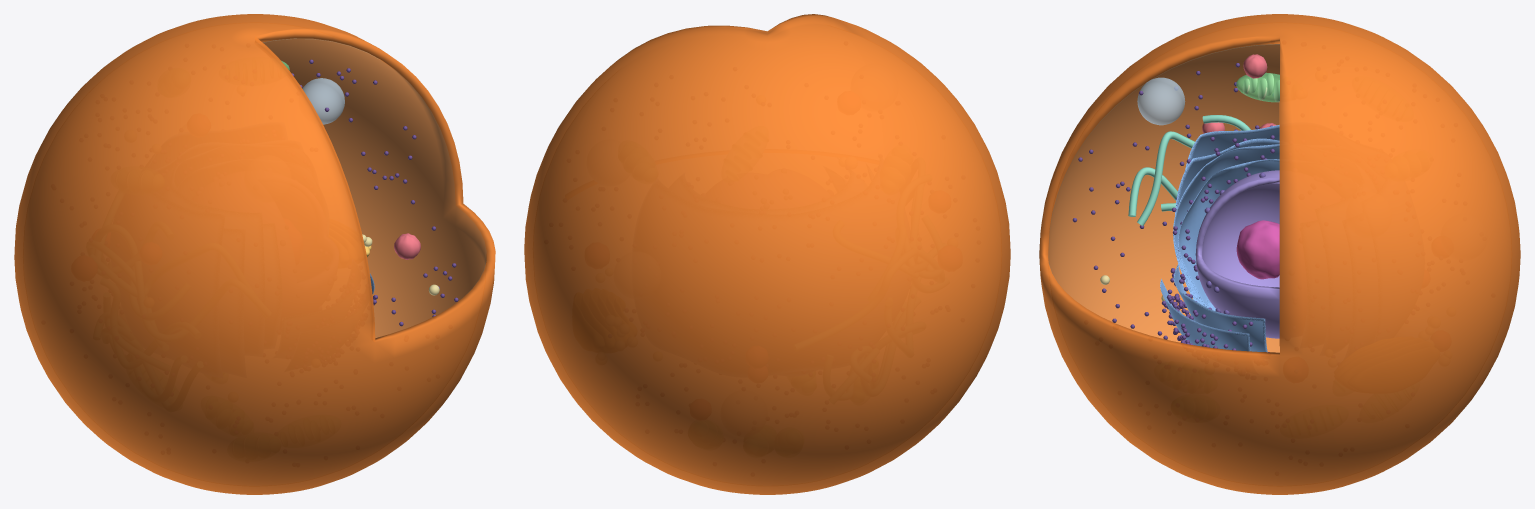
Rendered from animal_cell.glb.
3 renders of one model, left to right at view 1: azimuth 30°, elevation 25°; view 2: azimuth 150°, elevation 25°; view 3: azimuth 270°, elevation 25°, orthographic.
Visible parts, largest first — view 1: Cell_Membrane, Cytoplasm, Vacuole_03, Ribosomes, Lysosome_02; view 2: Cell_Membrane; view 3: Cell_Membrane, Cytoplasm, Rough_ER, Nucleus, Ribosomes, Nucleolus, Smooth_ER, Vacuole_02, Mitochondrion_01.
Boxes of the visible parts, x1=… form: Cell_Membrane: x1=14, y1=14, x2=495, y2=494; Cytoplasm: x1=263, y1=38, x2=485, y2=337; Vacuole_03: x1=302, y1=78, x2=344, y2=124; Ribosomes: x1=291, y1=59, x2=458, y2=326; Lysosome_02: x1=394, y1=233, x2=420, y2=259; Cell_Membrane: x1=524, y1=14, x2=1010, y2=494; Cell_Membrane: x1=1039, y1=14, x2=1520, y2=494; Cytoplasm: x1=1048, y1=44, x2=1279, y2=352; Rough_ER: x1=1160, y1=125, x2=1279, y2=352; Nucleus: x1=1195, y1=170, x2=1279, y2=338; Ribosomes: x1=1072, y1=63, x2=1274, y2=352; Nucleolus: x1=1236, y1=220, x2=1279, y2=279; Smooth_ER: x1=1128, y1=115, x2=1250, y2=225; Vacuole_02: x1=1137, y1=77, x2=1185, y2=125; Mitochondrion_01: x1=1236, y1=72, x2=1279, y2=102.
Bounding box in the file's own units: 4 × 4 × 4.
